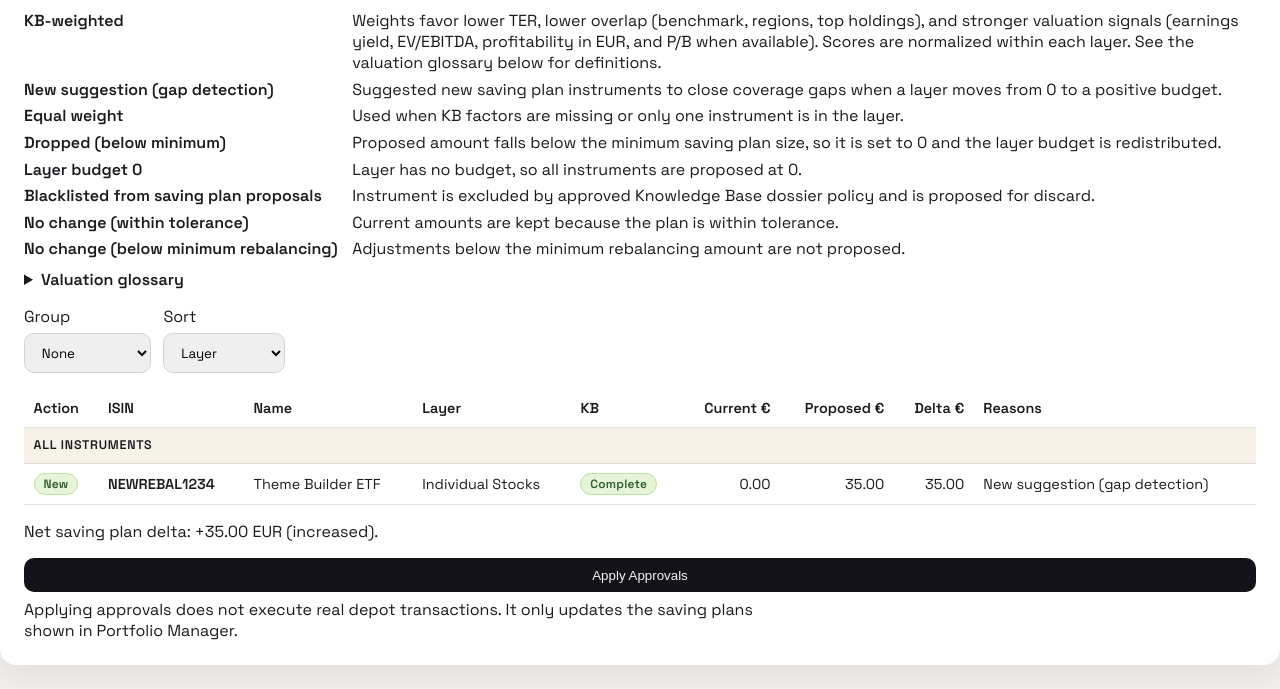
Test: RebalancerView › applies selected new saving plan proposals with proposal layer
The width and height of the screenshot is (1280, 689).
(page scrolled)
Click the button "Apply Approvals": (640, 575) [24,558,1256,592]
(page scrolled)
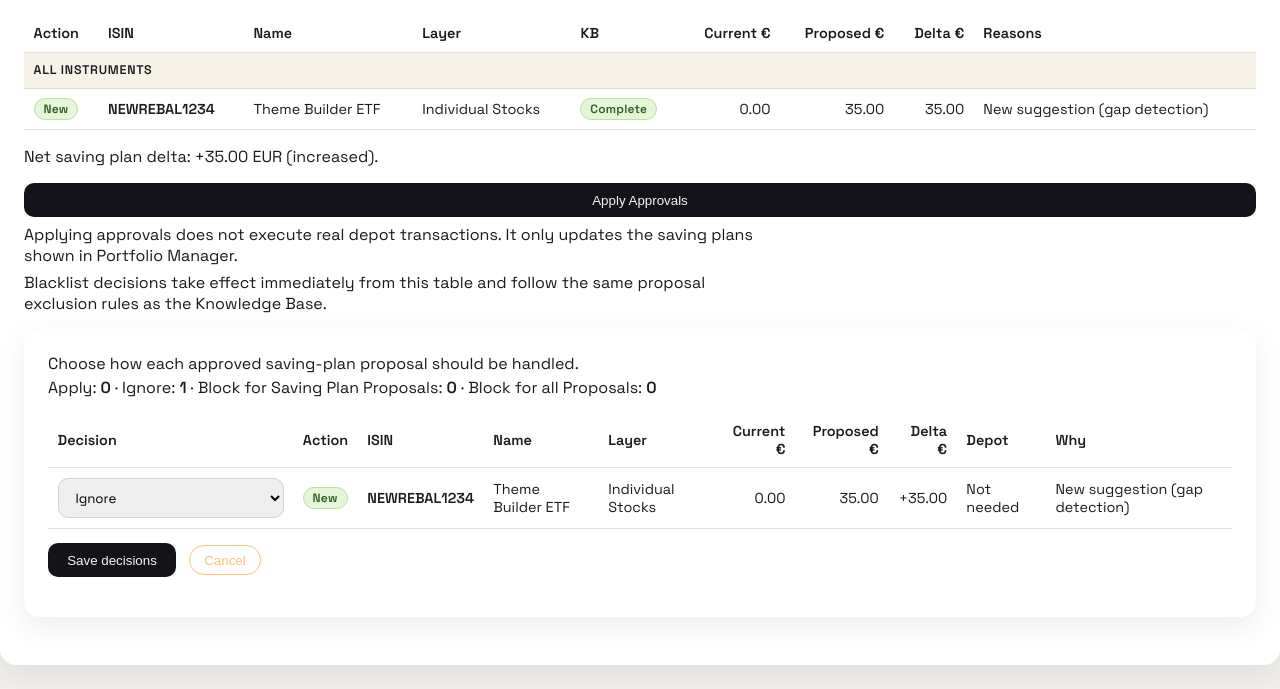
Select "Apply" in the dropdown named "Decision for NEWREBAL1234": (171, 498) [58,478,284,518]
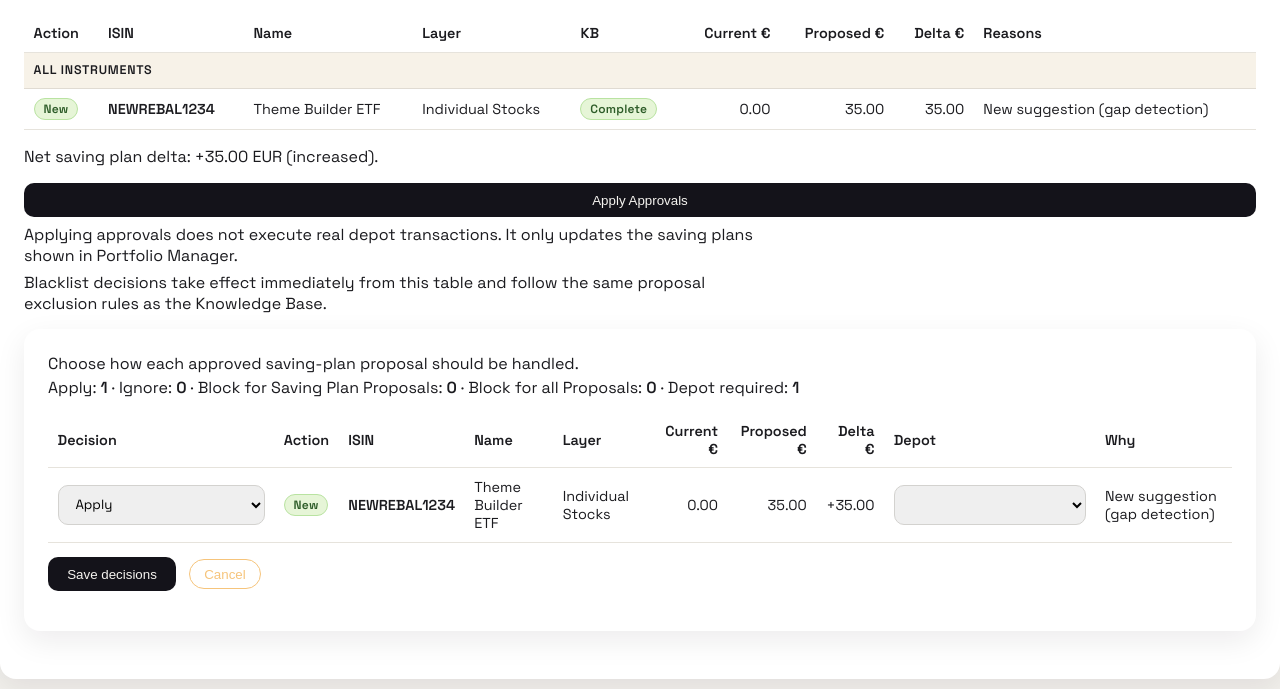
Select "sc - Scalable Capital" in the 4th dropdown: (990, 505) [894,485,1086,525]
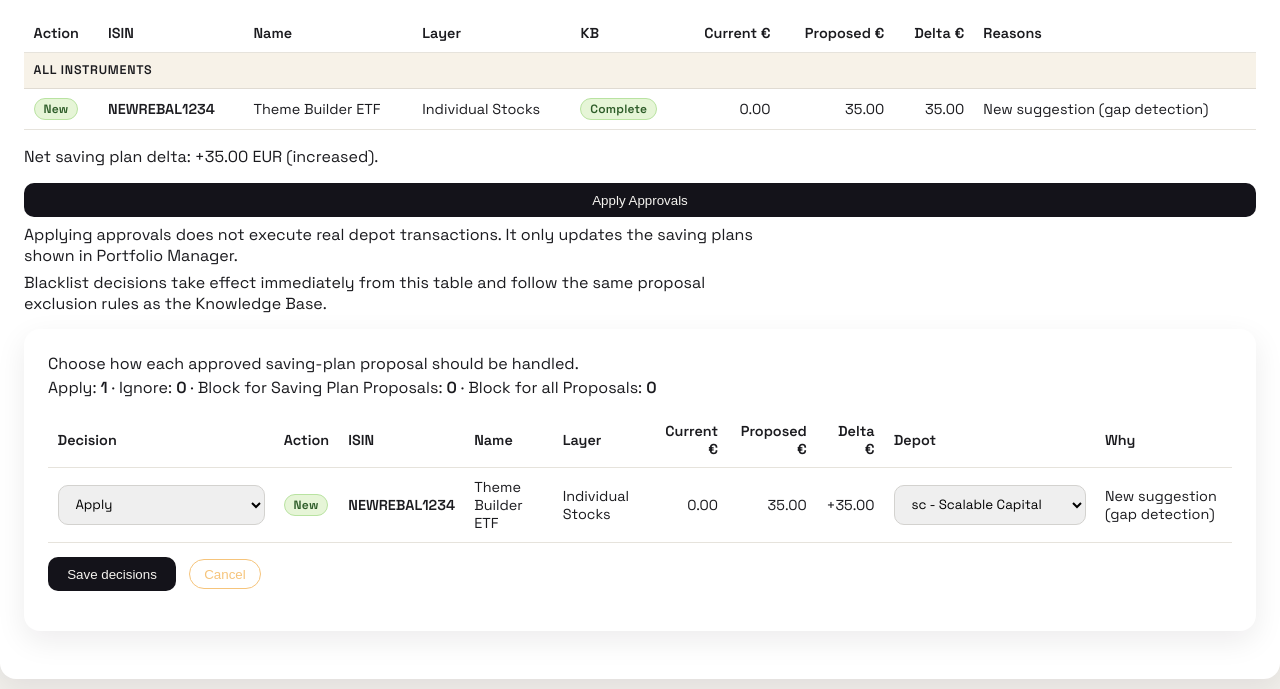
Click the button "Save decisions": (112, 574) [48,557,176,591]
(page scrolled)
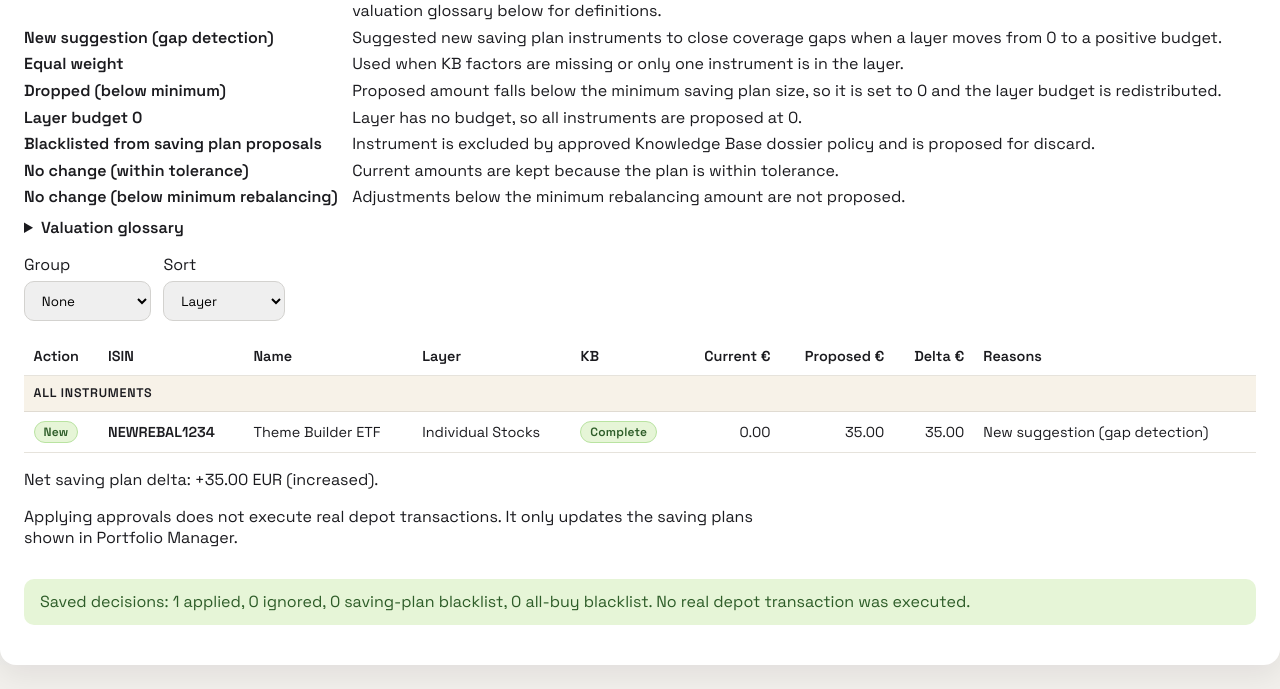
expect the text "Saved decisions: 1 applied" is shown: met, box [40,591,970,612]
